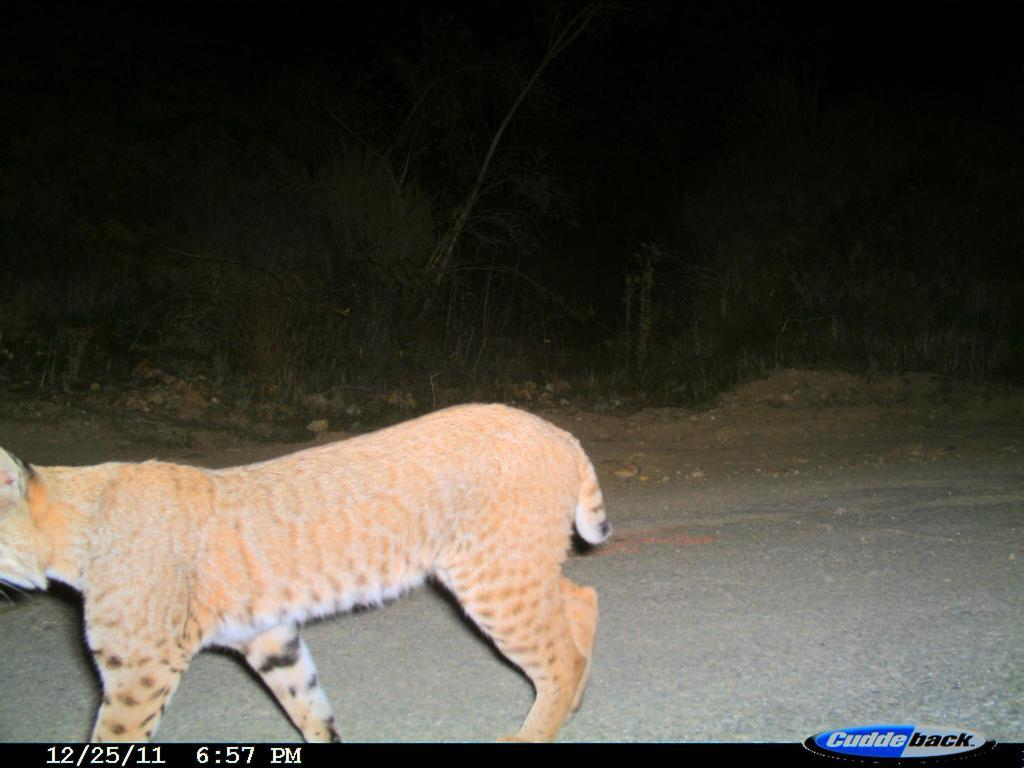bobcat: (1, 382, 662, 740)
